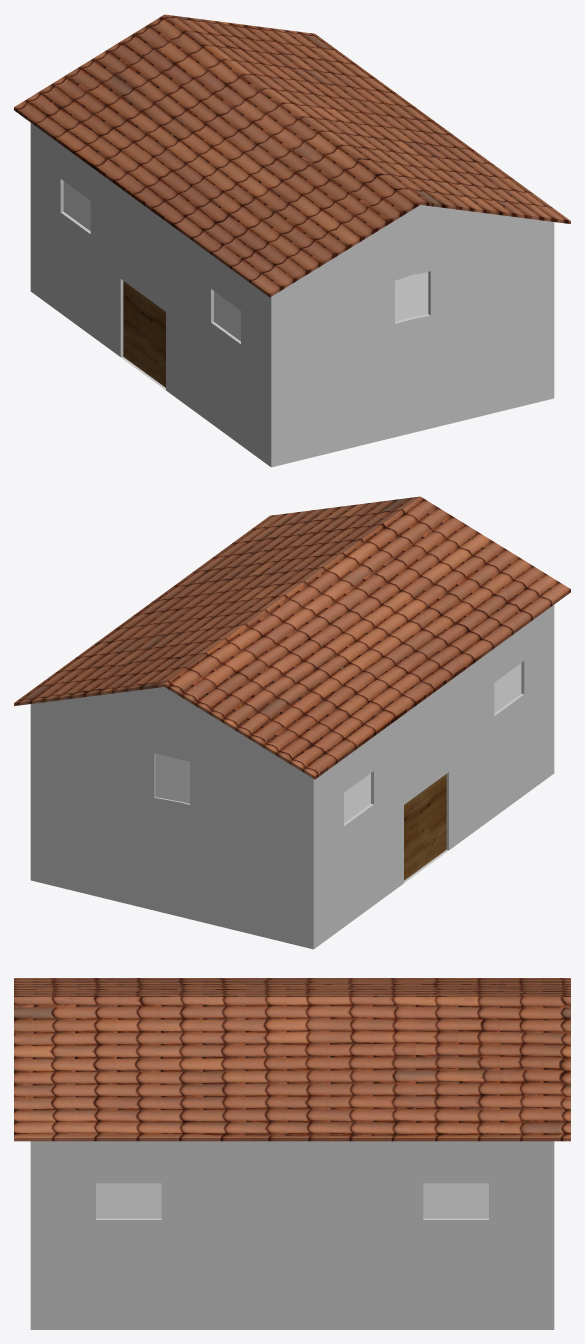
Rendered from building.glb.
The picture shows the model from 3 angles, top to bottom: view 1: azimuth 30°, elevation 25°; view 2: azimuth 150°, elevation 25°; view 3: azimuth 270°, elevation 25°; orthographic projection. The views are drawn at different scales.
Parts seen in each view (by area): view 1: Cube; view 2: Cube; view 3: Cube.
Boxes of the visible parts, x1,y1,x2,y2 form: Cube: [14, 14, 570, 467]; Cube: [14, 496, 570, 949]; Cube: [14, 978, 570, 1329].
Bounding box in the file's own units: 6.29 × 4.73 × 9.26.
4 materials, 2 textured.
